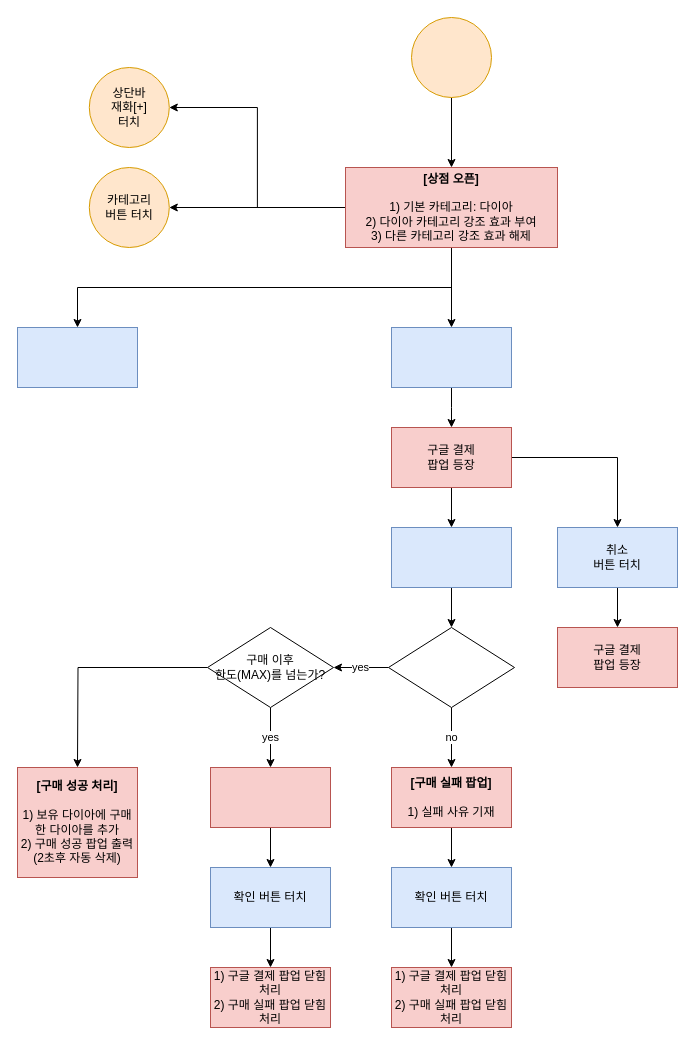
The diagram is 695 pixels wide and 1045 high, and some of its shapes have lost their labels. Here are the shapes that lost their labels. From the top down, the centre of each, then its label:
At (x=451, y=57): "다이아 카테고리 진입".
At (x=77, y=357): "상점 닫기 버튼 터치".
At (x=451, y=357): "다이아 상품 현금 가격 버튼 터치".
At (x=451, y=557): "구매하기 버튼 터치".
At (x=451, y=667): "구매에 성공하였는가?".
At (x=270, y=797): "[구매 실패 팝업] 1) 한도 초과로 인한 실패 메세지 출력".
